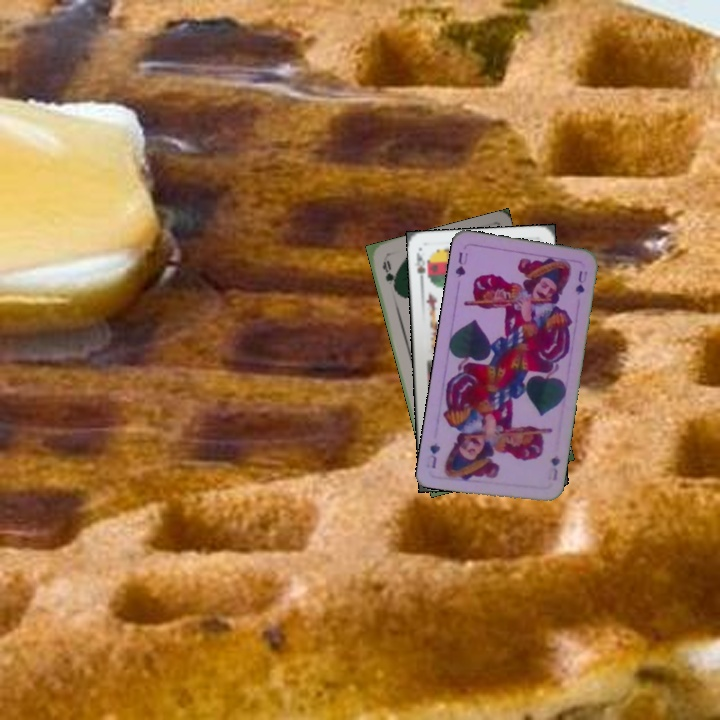GO: (378, 256, 400, 295)
GU: (451, 248, 471, 280), (547, 451, 563, 483)
SK: (411, 249, 431, 287)
